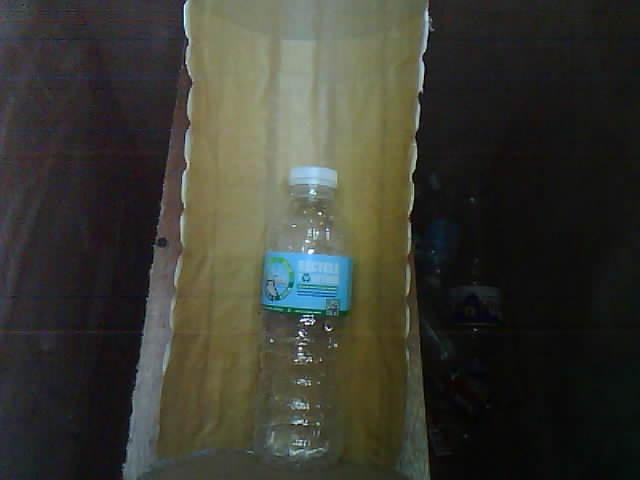small_bottle: (226, 139, 373, 480)
